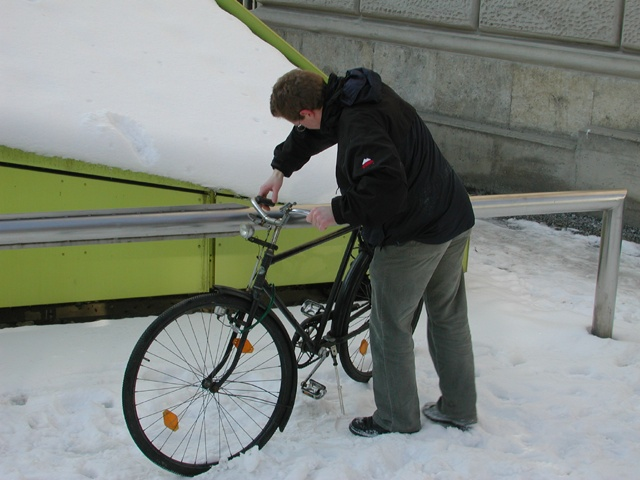person: (264, 60, 480, 443)
